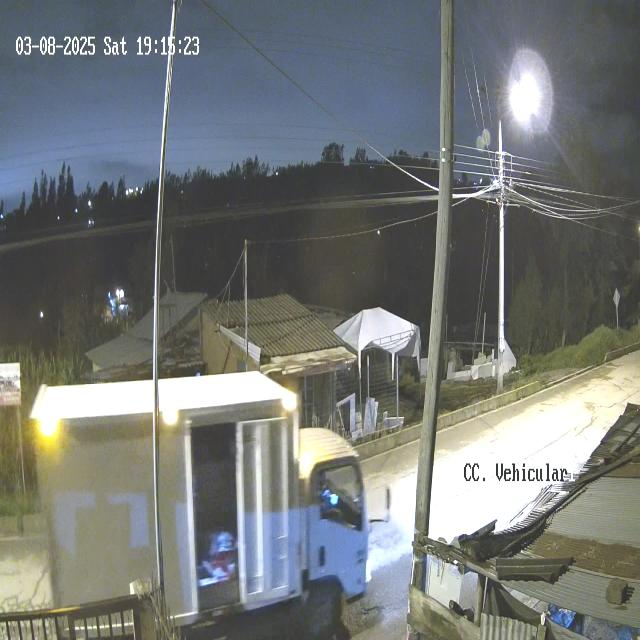TRUCK: (29, 369, 373, 639)
